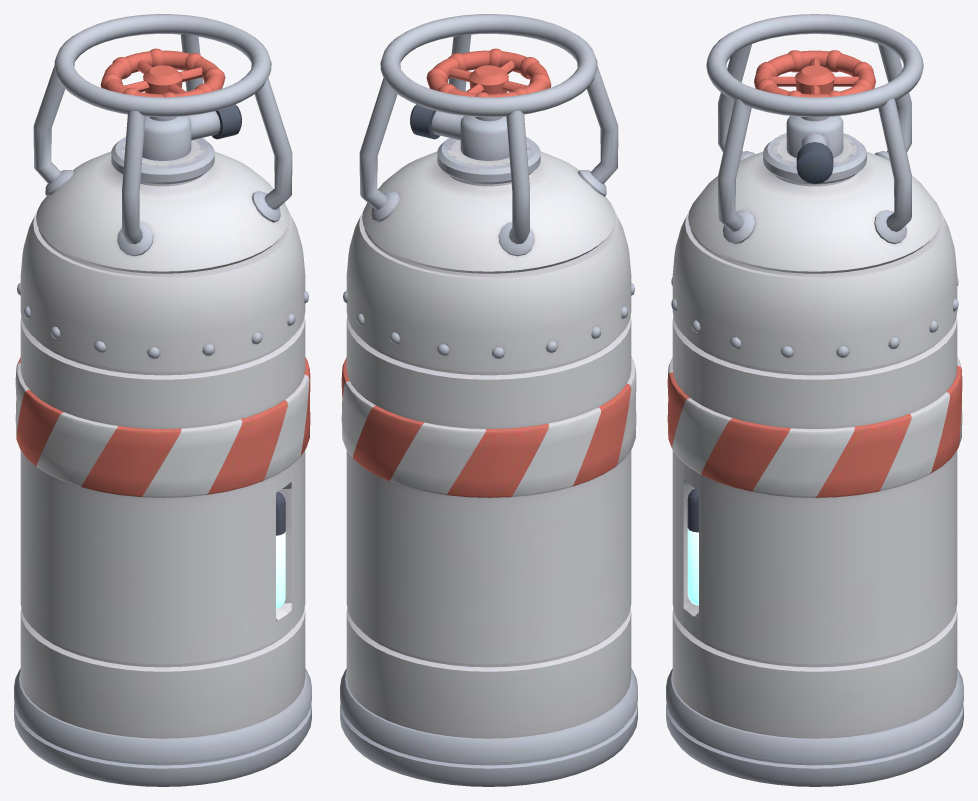
The model's file is bidon_combustible.glb.
The picture shows the model from 3 angles, left to right: view 1: azimuth 30°, elevation 25°; view 2: azimuth 150°, elevation 25°; view 3: azimuth 270°, elevation 25°; orthographic projection.
Parts seen in each view (by area): view 1: fuel-canister_body; view 2: fuel-canister_body; view 3: fuel-canister_body.
Boxes of the visible parts, x1=… form: fuel-canister_body: x1=14, y1=14, x2=311, y2=786; fuel-canister_body: x1=340, y1=14, x2=637, y2=786; fuel-canister_body: x1=666, y1=14, x2=963, y2=786.
Size of the model in its own units: 0.356 by 0.8864 by 0.356.
3 materials, 2 textured.
